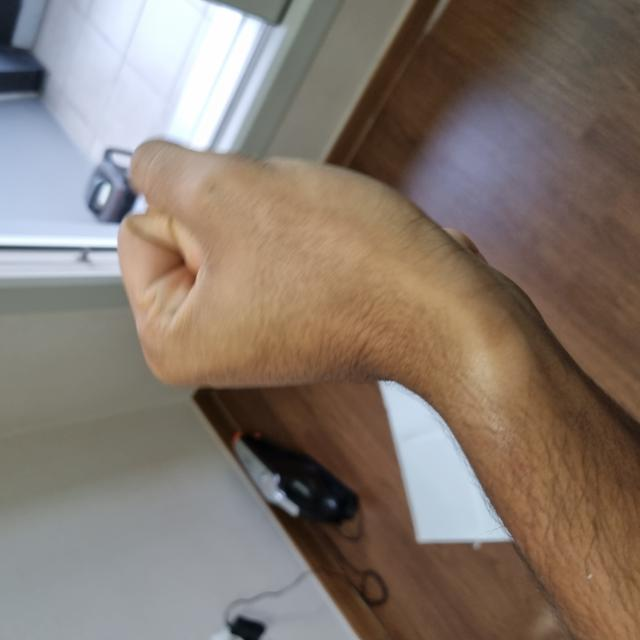Rock: (232, 118, 502, 537)
